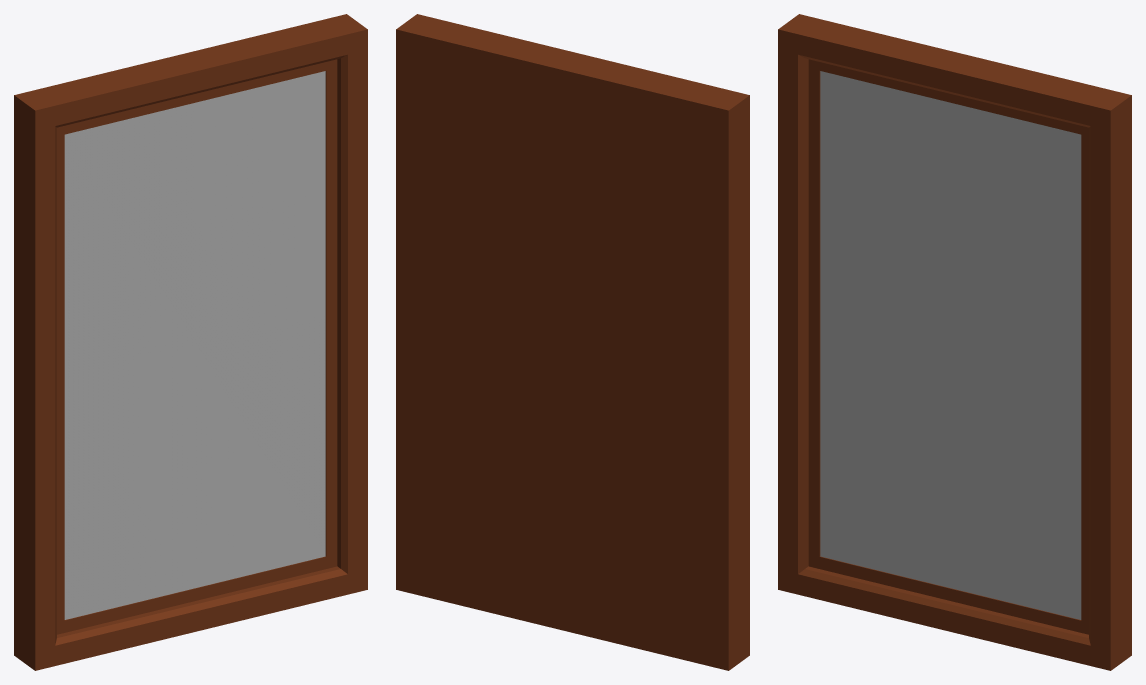
The model's file is mirror.gltf.
3 views of the same model, side by side, from view 1: azimuth 30°, elevation 25°; view 2: azimuth 150°, elevation 25°; view 3: azimuth 330°, elevation 25° (orthographic).
Parts seen in each view (by area): view 1: node-0; view 2: node-0; view 3: node-0.
Boxes of the visible parts, left/top/right/bottom form: node-0: left=14, top=14, right=367, bottom=670; node-0: left=396, top=14, right=749, bottom=670; node-0: left=778, top=14, right=1131, bottom=670.
Bounding box in the file's own units: 6.56 × 10.56 × 0.7197.
